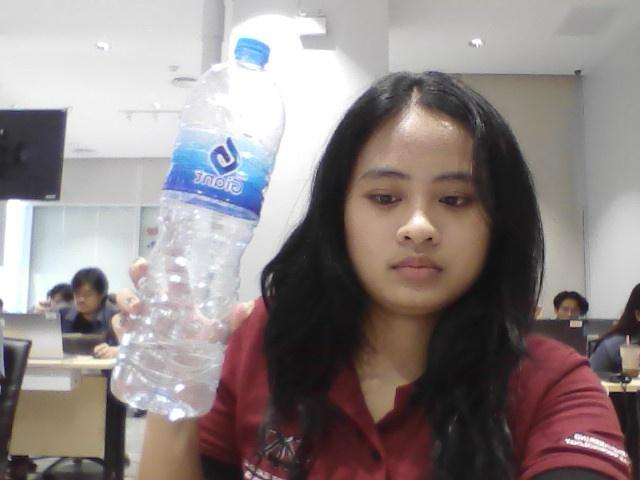bottle: (101, 50, 269, 416)
